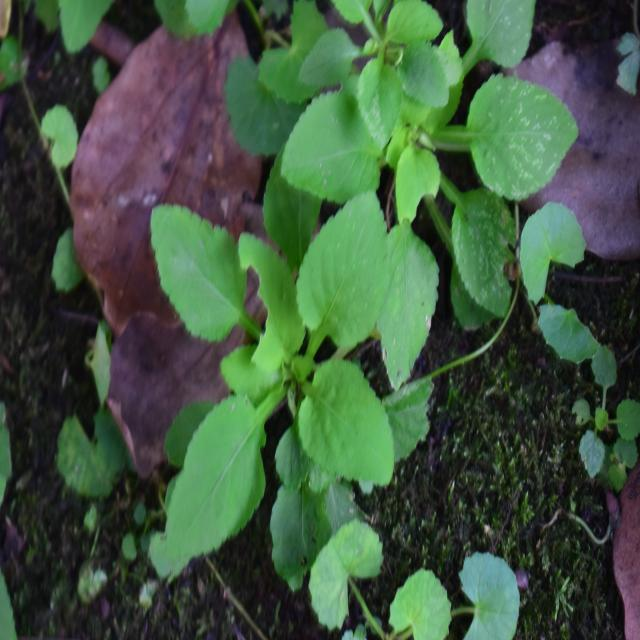Viola: (156, 215, 420, 533)
